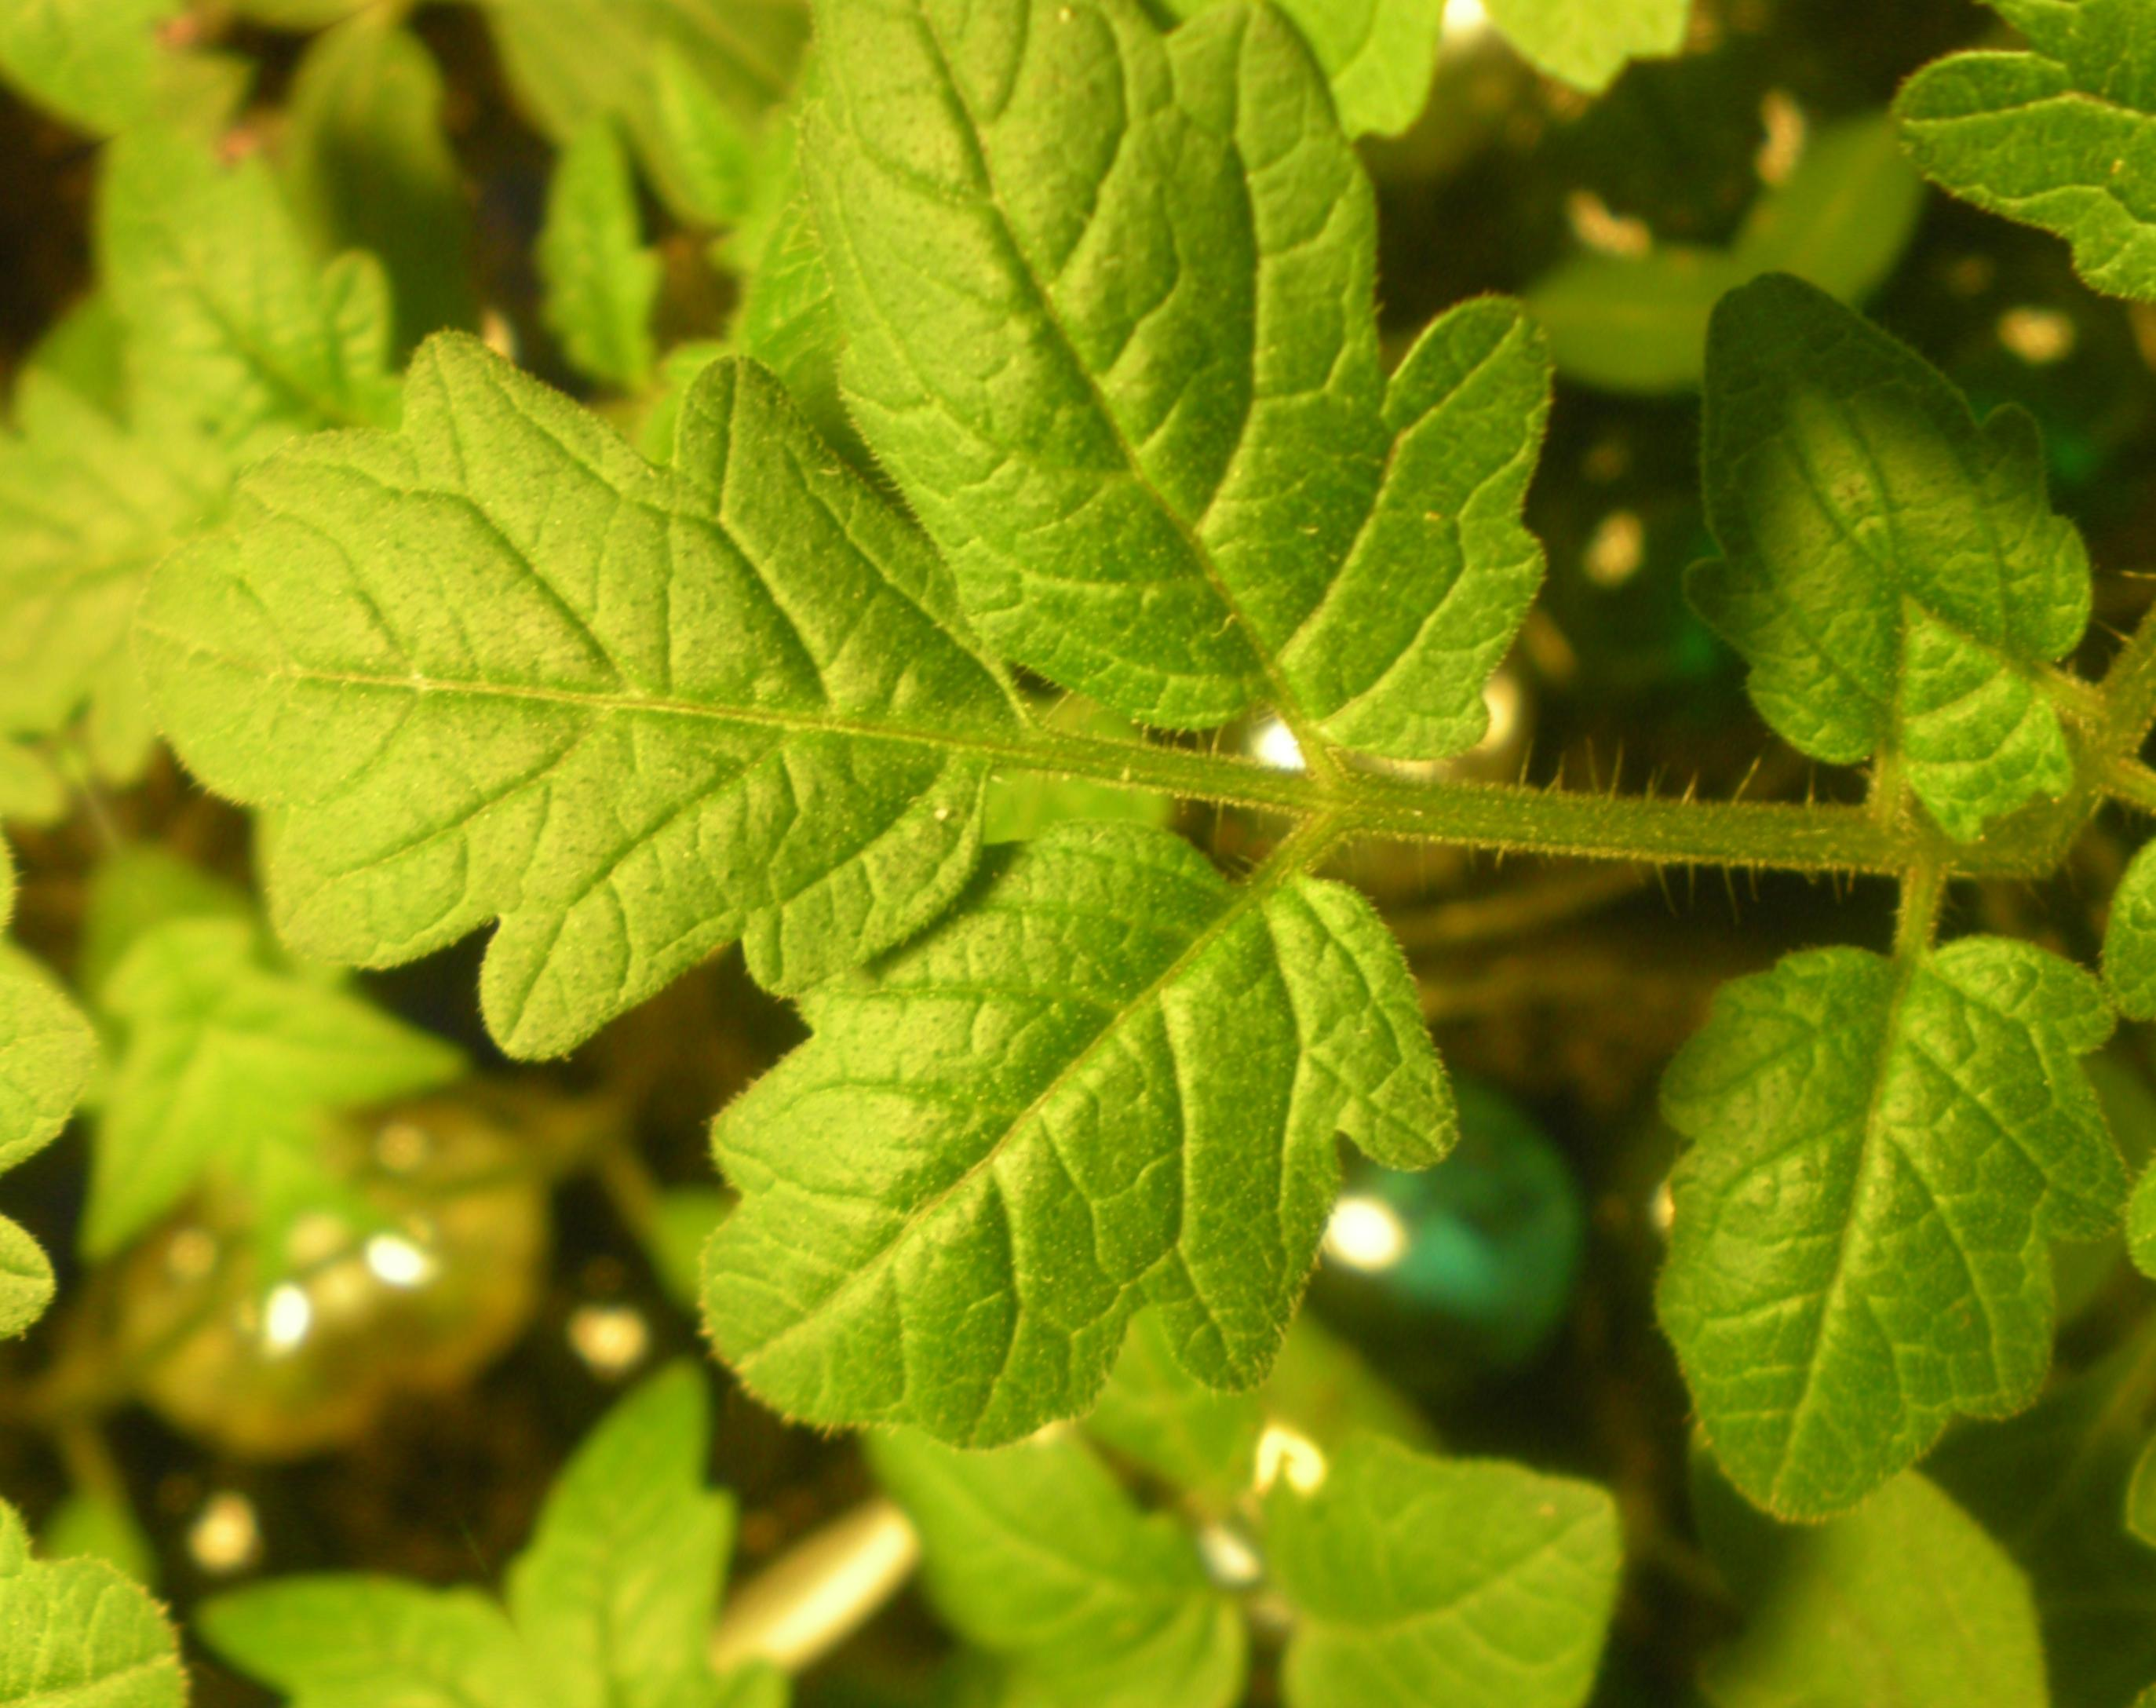Tomato leaf: (42, 159, 1118, 1195), (535, 642, 1624, 1608), (600, 0, 1692, 940), (1449, 793, 2156, 1626), (1489, 166, 2025, 931), (1155, 1291, 1743, 1708), (801, 1295, 1295, 1708), (425, 1325, 913, 1708)
